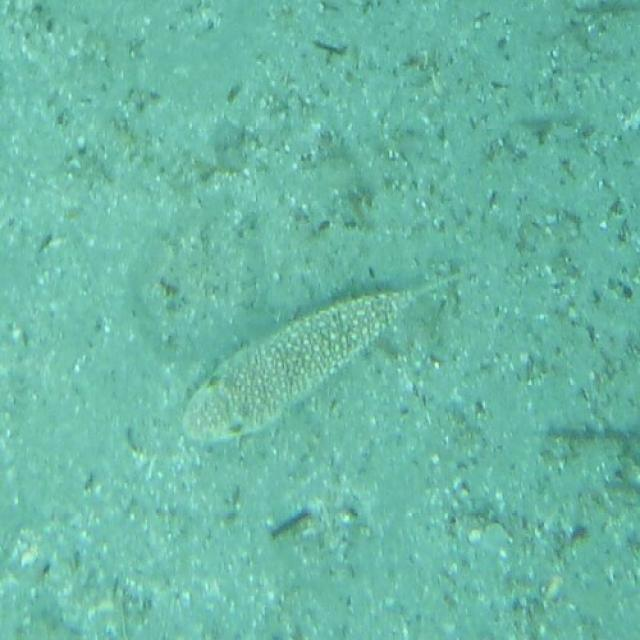Balik: (184, 283, 441, 441)
